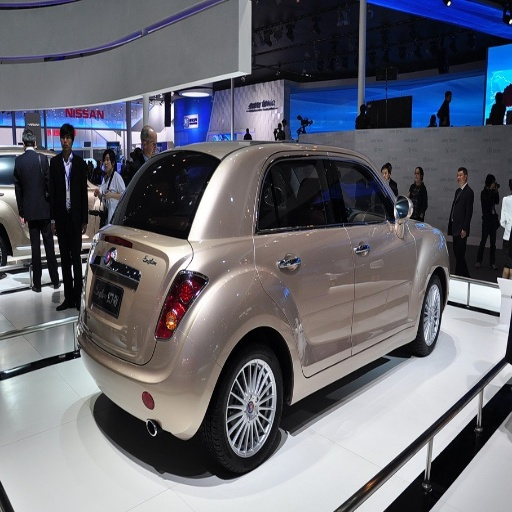back_bumper: (81, 313, 224, 437)
back_right_door: (255, 153, 354, 378)
back_right_light: (156, 254, 205, 338)
tailgate: (89, 226, 175, 353)
trunk: (88, 288, 165, 362)
